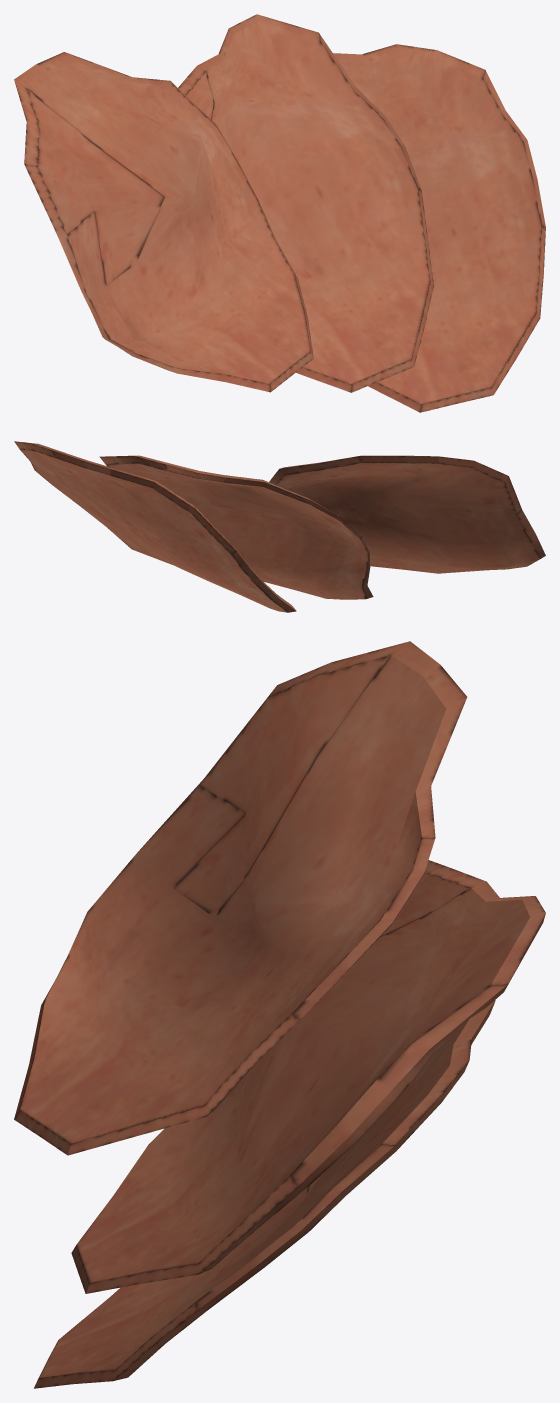
Rendered from Ase.001_Baked.003.fbx.
3 renders of one model, top to bottom at view 1: azimuth 30°, elevation 25°; view 2: azimuth 150°, elevation 25°; view 3: azimuth 270°, elevation 25°, orthographic. The views are drawn at different scales.
Parts seen in each view (by area): view 1: Ase.001_Baked.003_Baked; view 2: Ase.001_Baked.003_Baked; view 3: Ase.001_Baked.003_Baked.
Part boxes in pixels (x1,y1,x2,y2): Ase.001_Baked.003_Baked: (14,14,545,412); Ase.001_Baked.003_Baked: (14,441,545,612); Ase.001_Baked.003_Baked: (14,641,545,1388).
Size of the model in its own units: 32.69 by 19.52 by 19.21.
Materials: 1 (1 with a texture image).
